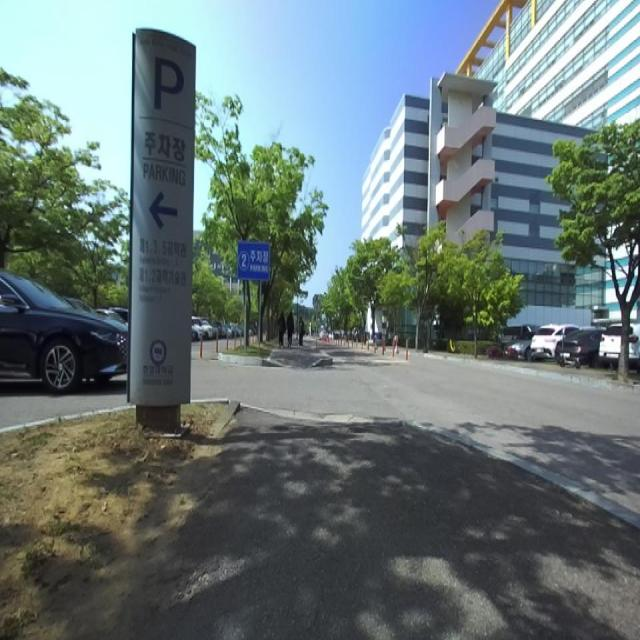sidewalk: (160, 408, 640, 639), (269, 345, 333, 368)
